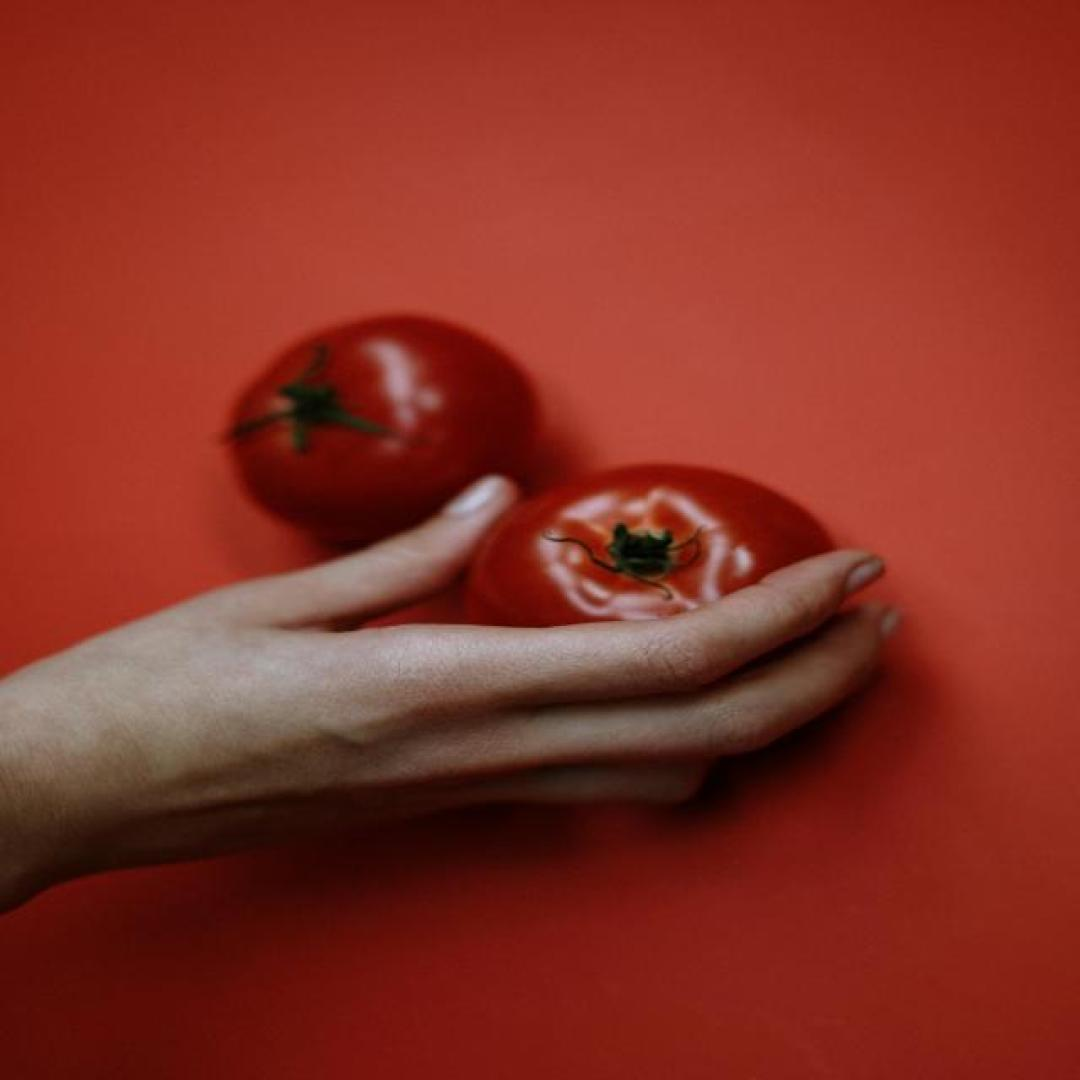matang: (466, 464, 842, 741), (228, 316, 540, 546)
